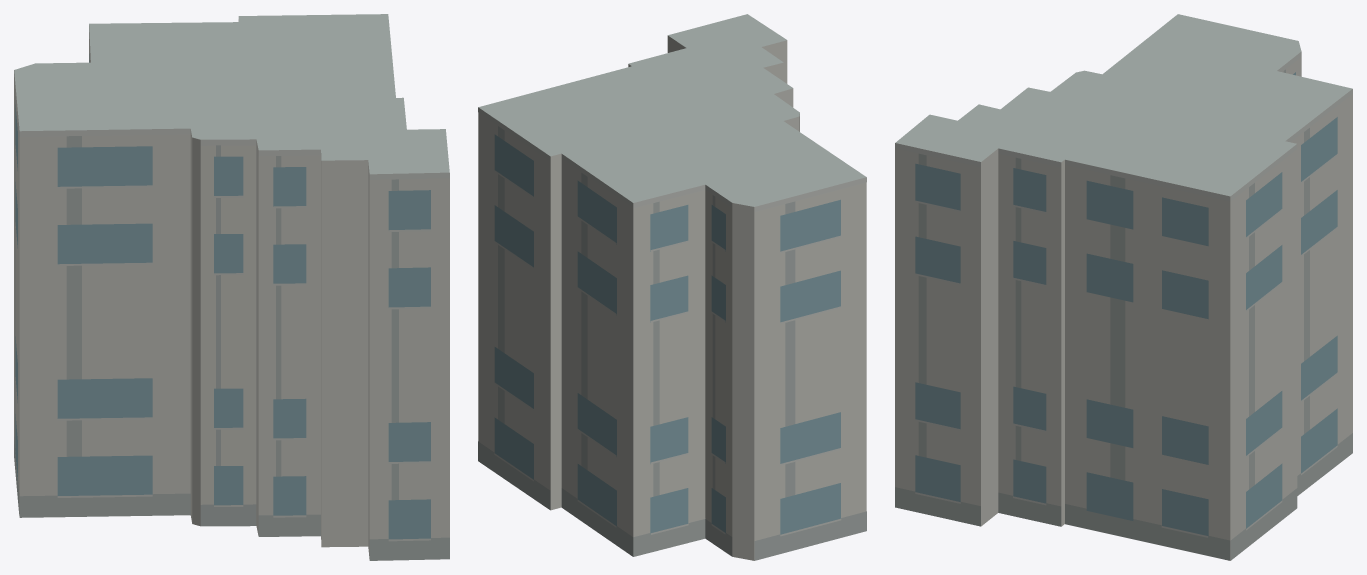
The model's file is survey-upis-32492620.glb.
3 renders of one model, left to right at view 1: azimuth 30°, elevation 25°; view 2: azimuth 150°, elevation 25°; view 3: azimuth 270°, elevation 25°, orthographic. The views are drawn at different scales.
Parts seen in each view (by area): view 1: survey-upis-32492620.tmp; view 2: survey-upis-32492620.tmp; view 3: survey-upis-32492620.tmp.
Boxes of the visible parts, x1,y1,x2,y2 form: survey-upis-32492620.tmp: (14,14,449,560); survey-upis-32492620.tmp: (478,14,866,560); survey-upis-32492620.tmp: (895,14,1352,560).
Bounding box in the file's own units: 17.61 × 16.4 × 18.68.
